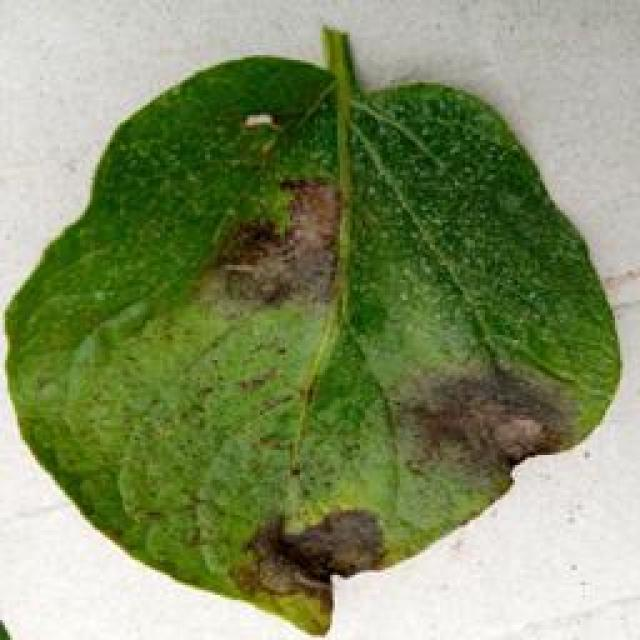late_blight: (0, 32, 625, 638)
